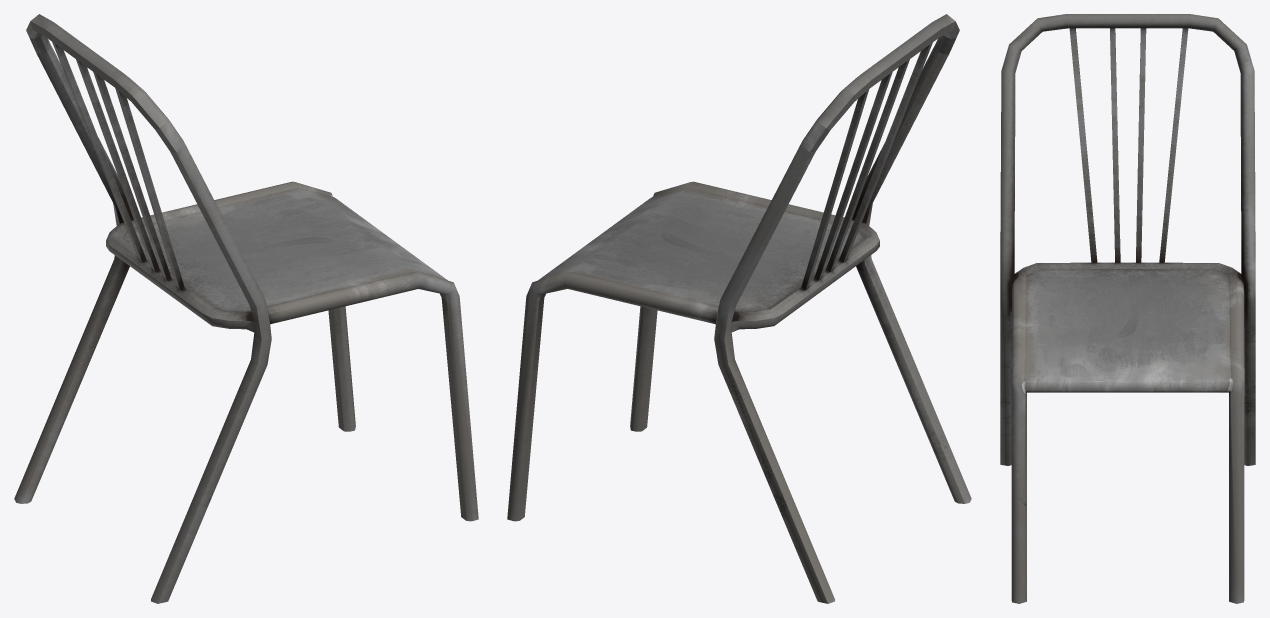
Rendered from Chair.fbx.
3 renders of one model, left to right at view 1: azimuth 30°, elevation 25°; view 2: azimuth 150°, elevation 25°; view 3: azimuth 270°, elevation 25°, orthographic. The views are drawn at different scales.
Visible parts, largest first — view 1: chair; view 2: chair; view 3: chair.
Part boxes in pixels (box(x1,y1,x2,y2)): chair: box(14, 14, 478, 603); chair: box(507, 14, 971, 603); chair: box(1000, 14, 1255, 603).
Bounding box in the file's own units: 175 × 249 × 129.
Materials: 1 (1 with a texture image).
